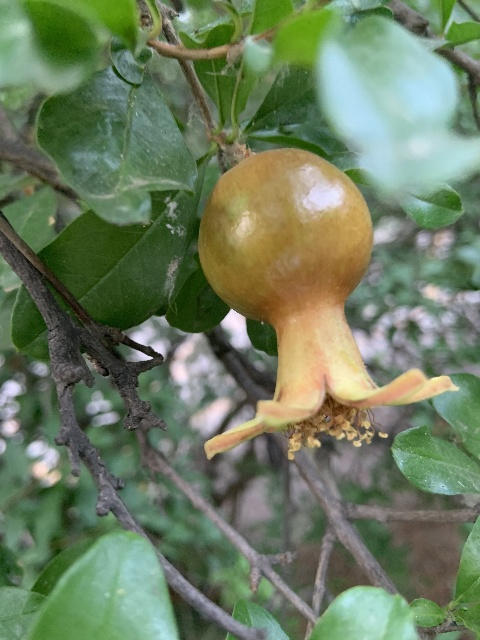early-fruit: (195, 147, 456, 462)
